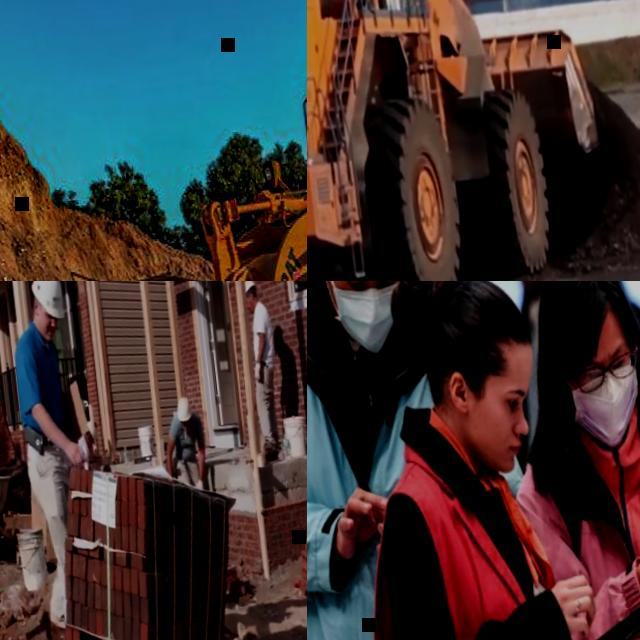Hardhat: (29, 281, 65, 321), (174, 392, 192, 420), (86, 419, 99, 441), (242, 281, 255, 292)
Mask: (317, 281, 416, 361), (563, 364, 640, 450)
NO-Hardhat: (411, 281, 536, 366), (532, 281, 622, 336)
NO-Mask: (469, 421, 521, 474), (514, 281, 545, 294), (38, 320, 54, 339), (246, 298, 254, 310), (181, 424, 189, 435)
NO-Safety Vest: (307, 281, 469, 640), (368, 449, 583, 640), (531, 433, 640, 640), (13, 330, 67, 448), (172, 415, 203, 467), (251, 302, 275, 364), (78, 433, 92, 468)
Person: (329, 281, 640, 640), (307, 281, 474, 640), (487, 281, 640, 640), (1, 281, 105, 640), (240, 281, 284, 458), (160, 392, 211, 494), (506, 281, 583, 312), (75, 419, 101, 466)
vehicle: (307, 0, 620, 281), (0, 7, 307, 281)
